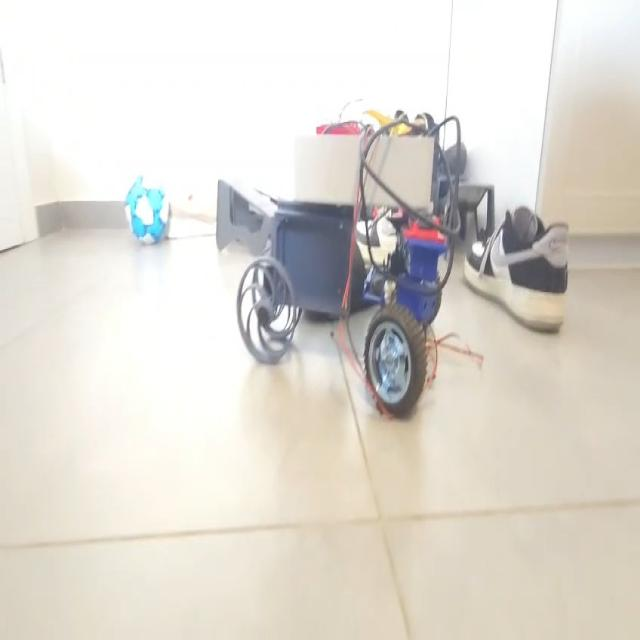Robot: (235, 99, 456, 427)
